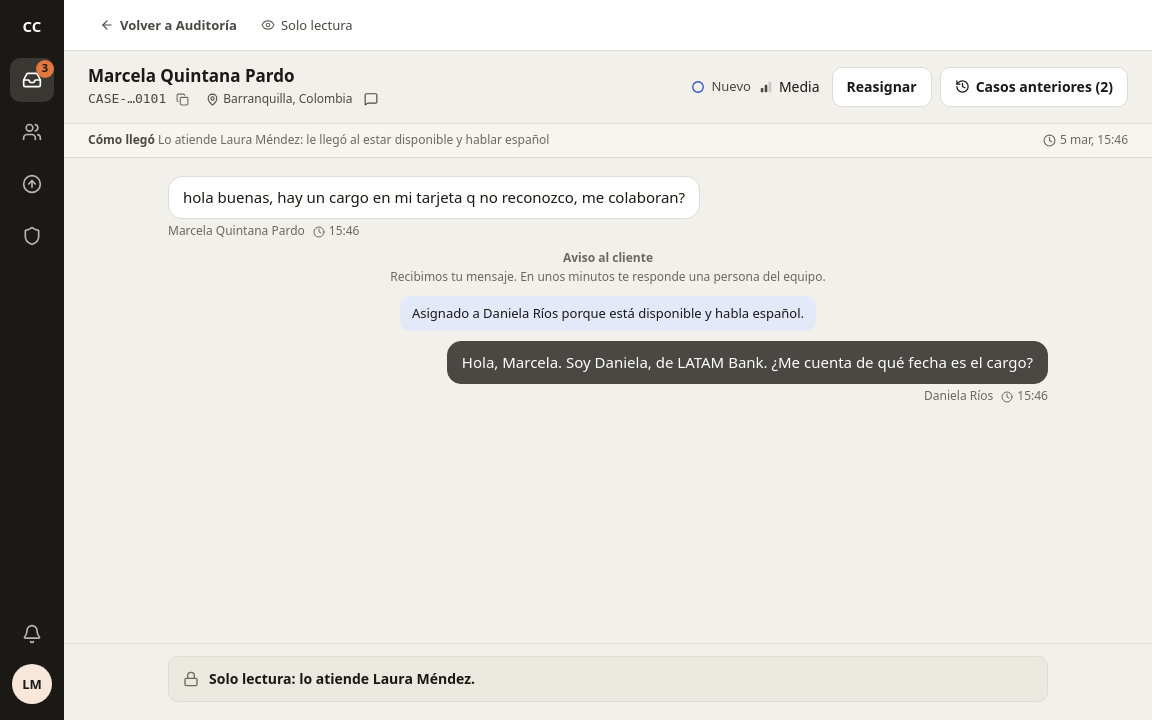
it: supervisor case view › goes back to where it came from, even after opening the history
Step 1. Click the button "Casos anteriores (2)" → (1034, 87), box [940,67,1128,107]
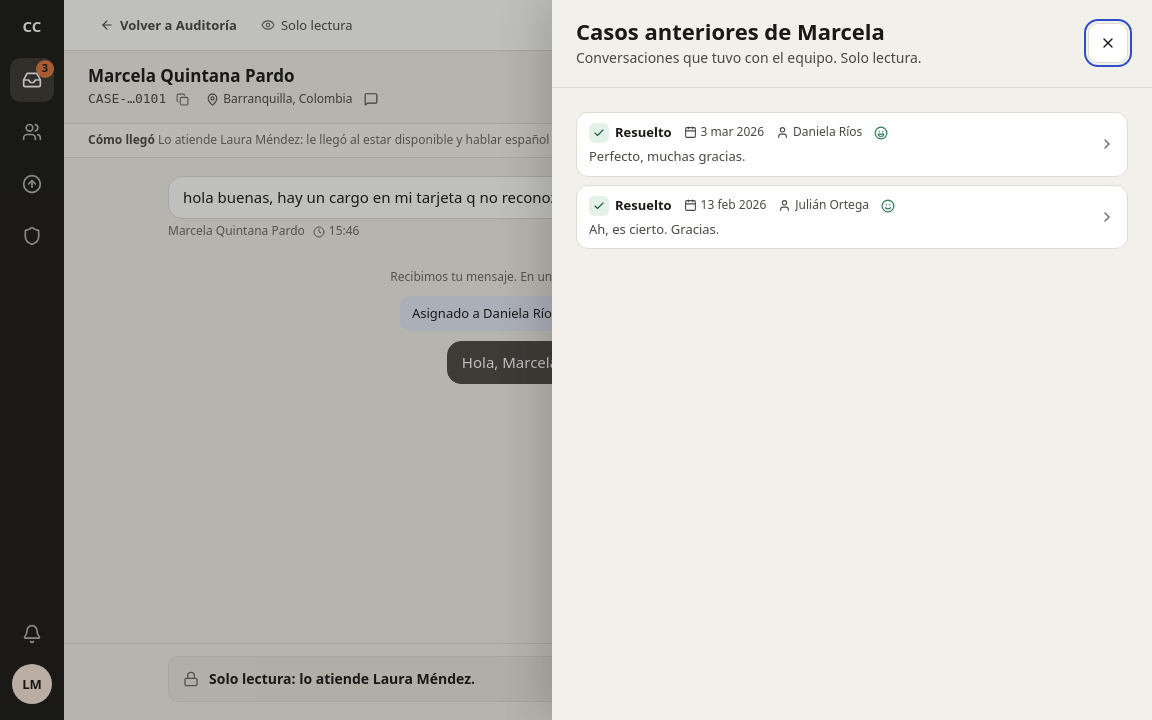
Expected: the list named "Casos anteriores" is shown, [576,112,1128,249]
